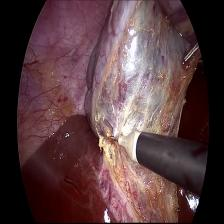Hook: (109, 128, 143, 169)
